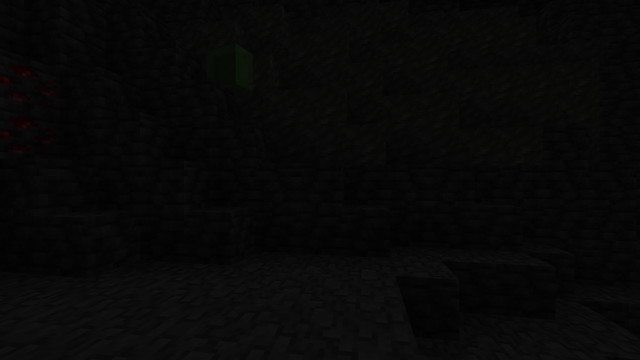slimes: (206, 42, 252, 91)
